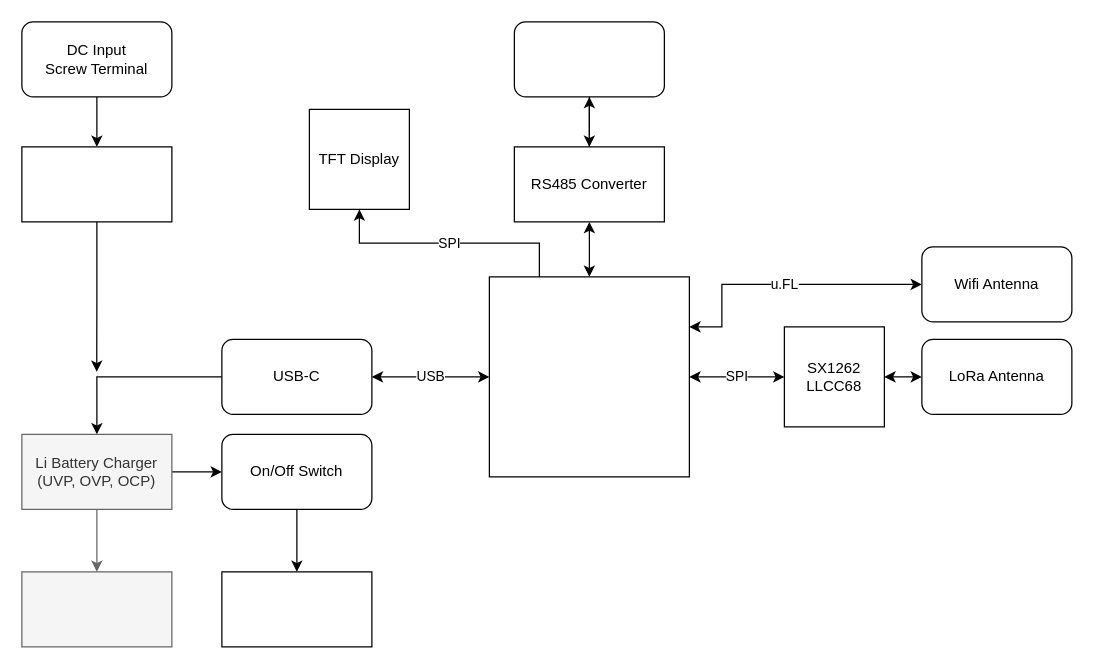
Some shapes in this 1094 by 669 pixel diagram are drawn without their labels. The shapes that lost their labels are listed below. From the top down, each one's box as (x1, y1, x2, y2) in pixels, then its label:
(513, 21, 664, 97): RJ45
(21, 146, 172, 222): eFuse 24V
(488, 276, 689, 477): ESP32-S3-MINI-1U
(21, 571, 172, 647): LiIon Battery 18650
(221, 571, 372, 647): DCDC Converter 3.3V 1A
